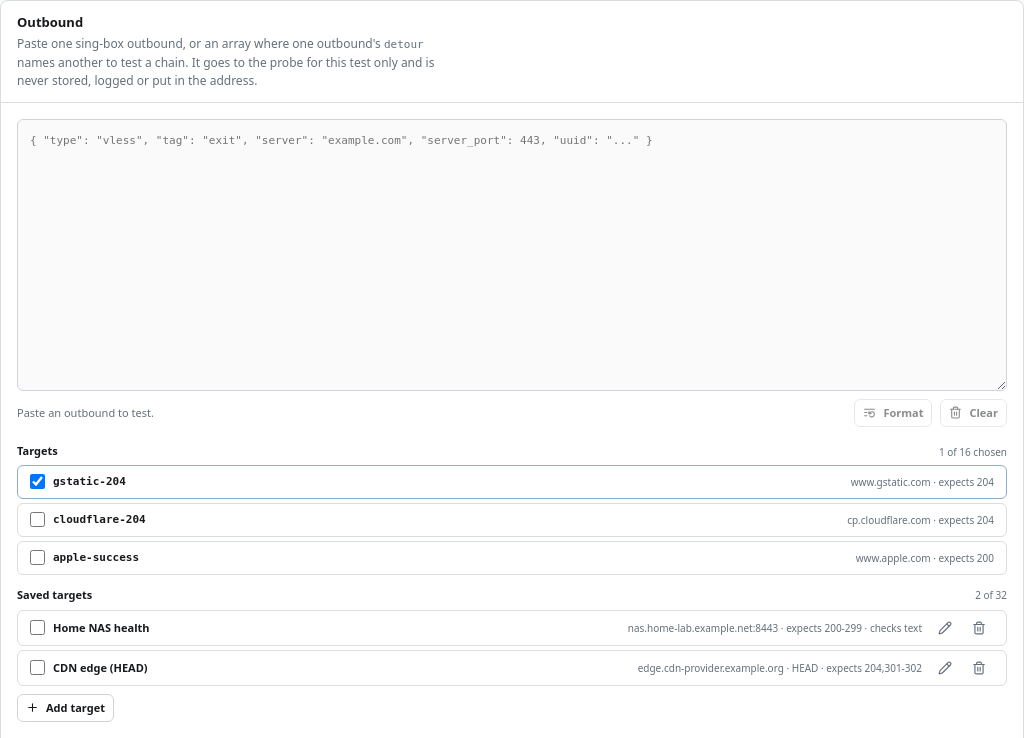
Test: saved targets › edits a target under its own row by the version it read, and Escape returns the focus to its Edit button
Click the 1st button with test id "probe-target-edit": (945, 628) x1=930 y1=613 x2=960 y2=643
(page scrolled)
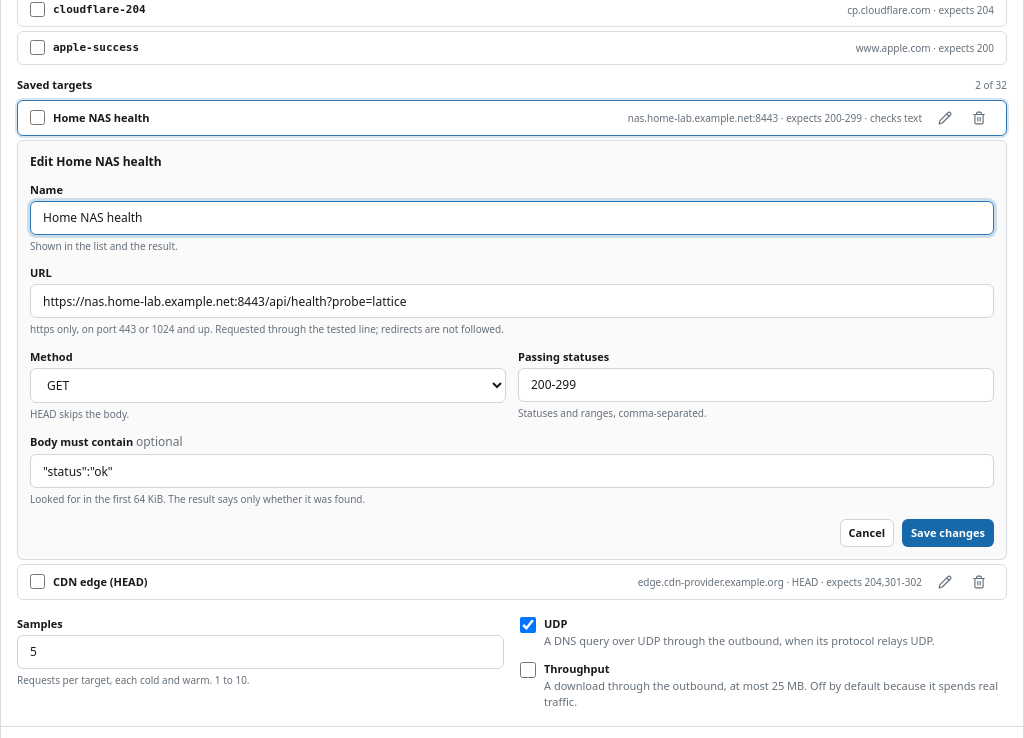
Now the form with test id "probe-target-form" is shown, box x1=17 y1=140 x2=1007 y2=560
Replace the text in the field labelled "Passing statuses" with "200": (756, 385) x1=518 y1=368 x2=994 y2=402
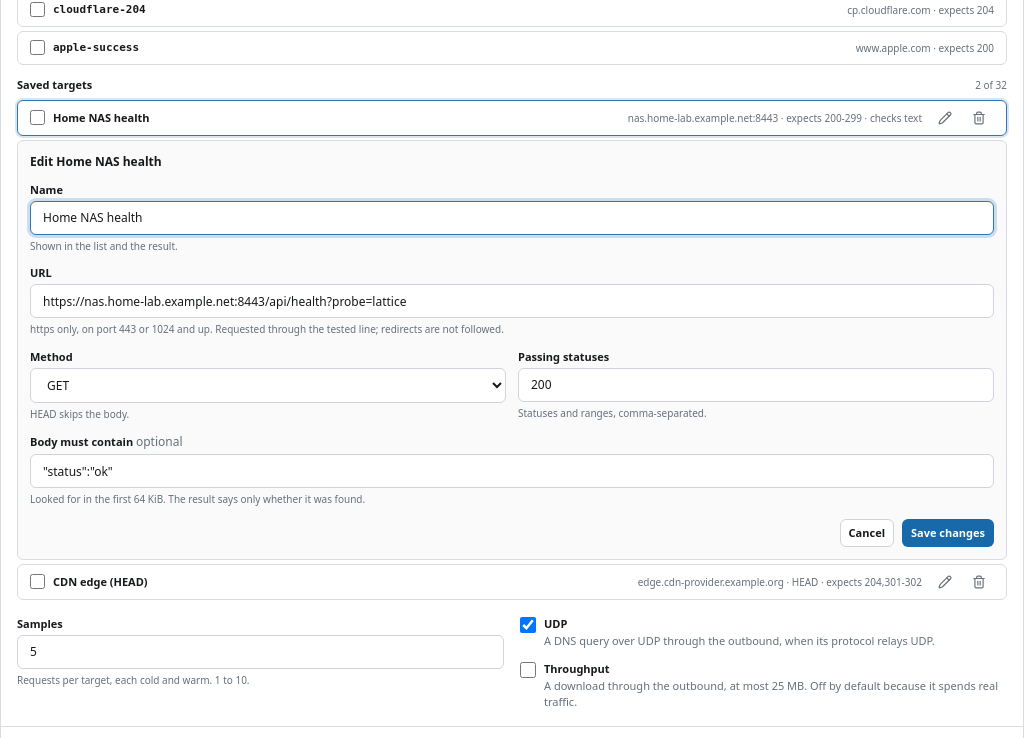
Click the button "Save changes": (948, 533) x1=902 y1=519 x2=994 y2=547
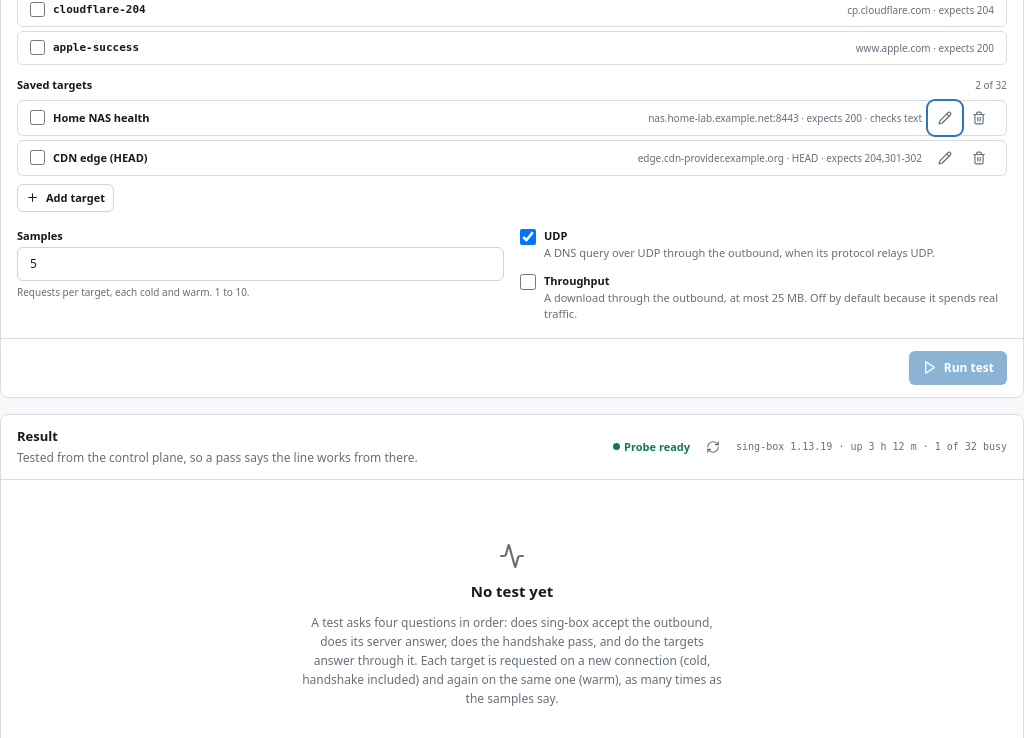
Click the 1st button with test id "probe-target-edit": (945, 118) x1=930 y1=103 x2=960 y2=133
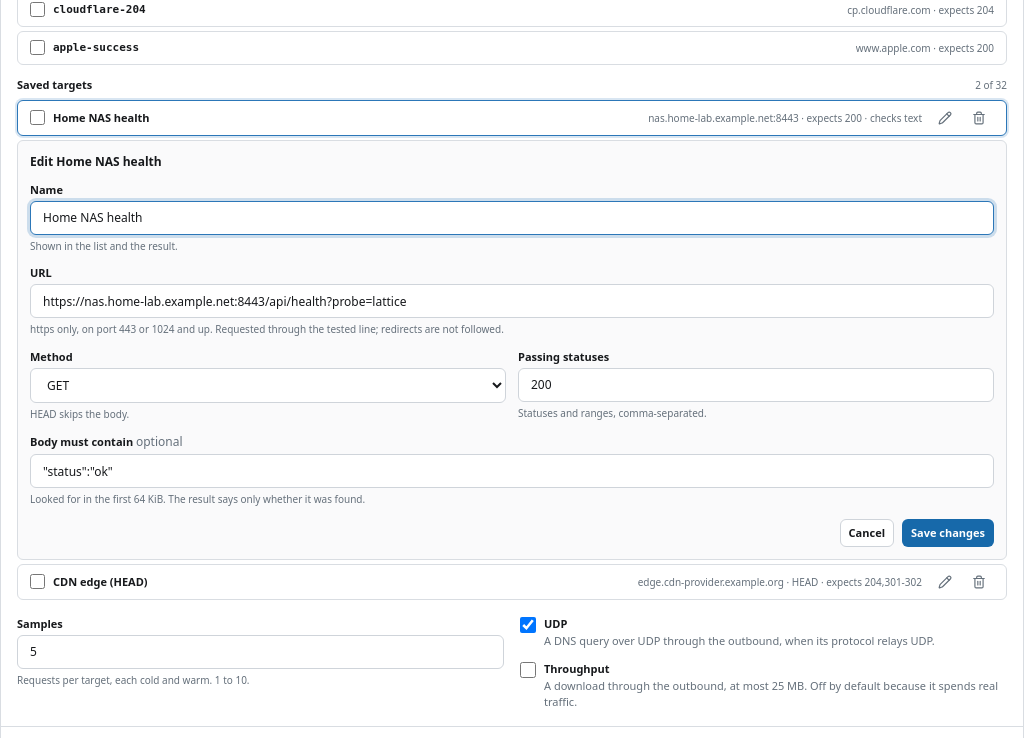
Press Escape in the field labelled "Name", box x1=30 y1=201 x2=994 y2=235
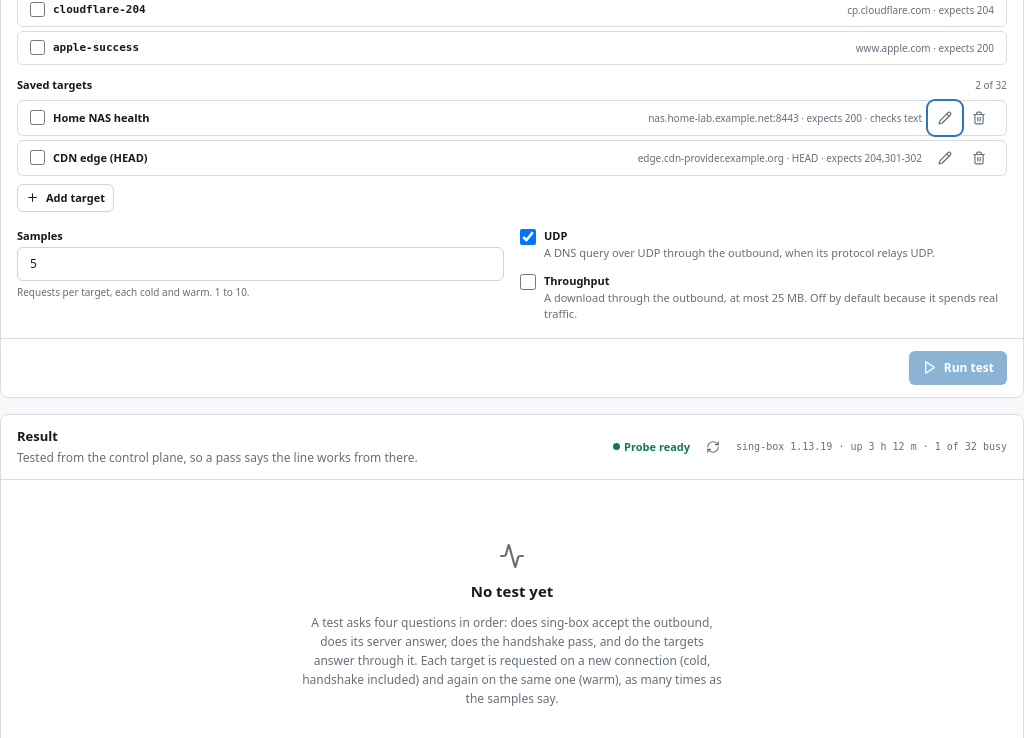
Now the form with test id "probe-target-form" is gone
